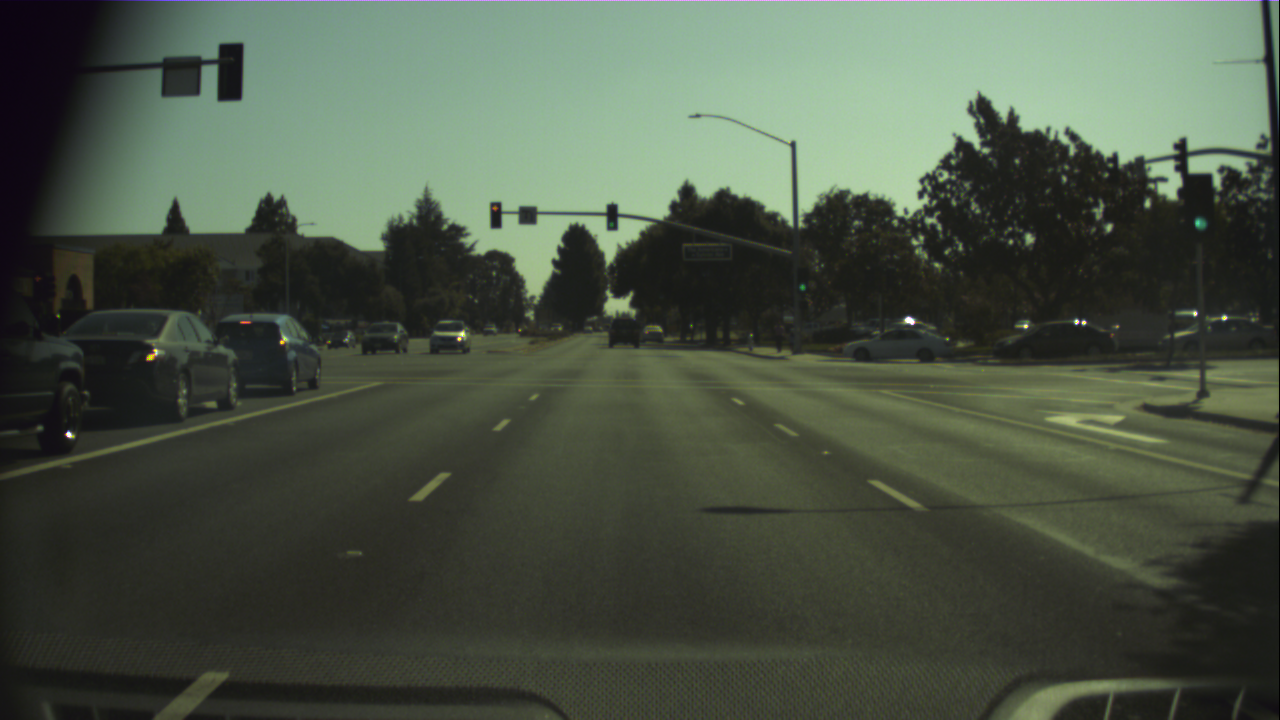Green: (1185, 173, 1213, 238), (606, 203, 618, 230), (796, 267, 808, 294)
RedLeft: (32, 273, 43, 301), (490, 201, 501, 227)
